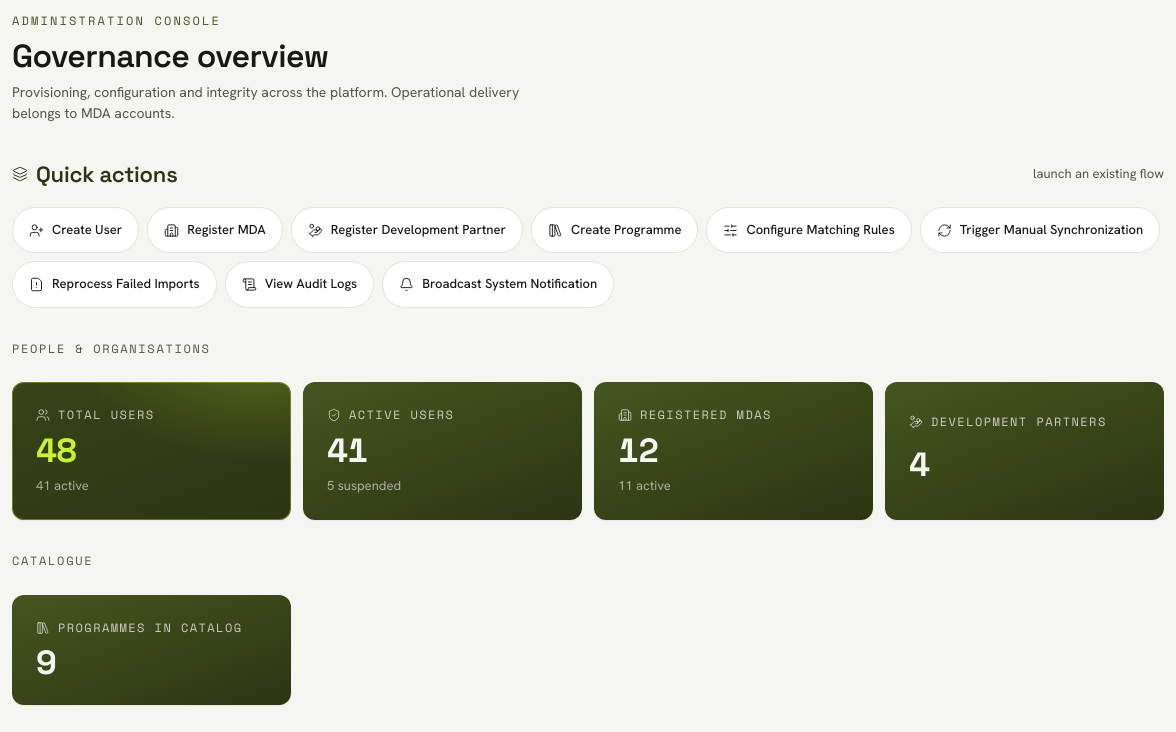
Test: System Administrator console › routes View Audit Logs to the console audit section
Expected: the heading "Governance overview" is shown, [12, 36, 328, 76]
Click the button "View Audit Logs" at [299, 284], box [225, 261, 374, 308]
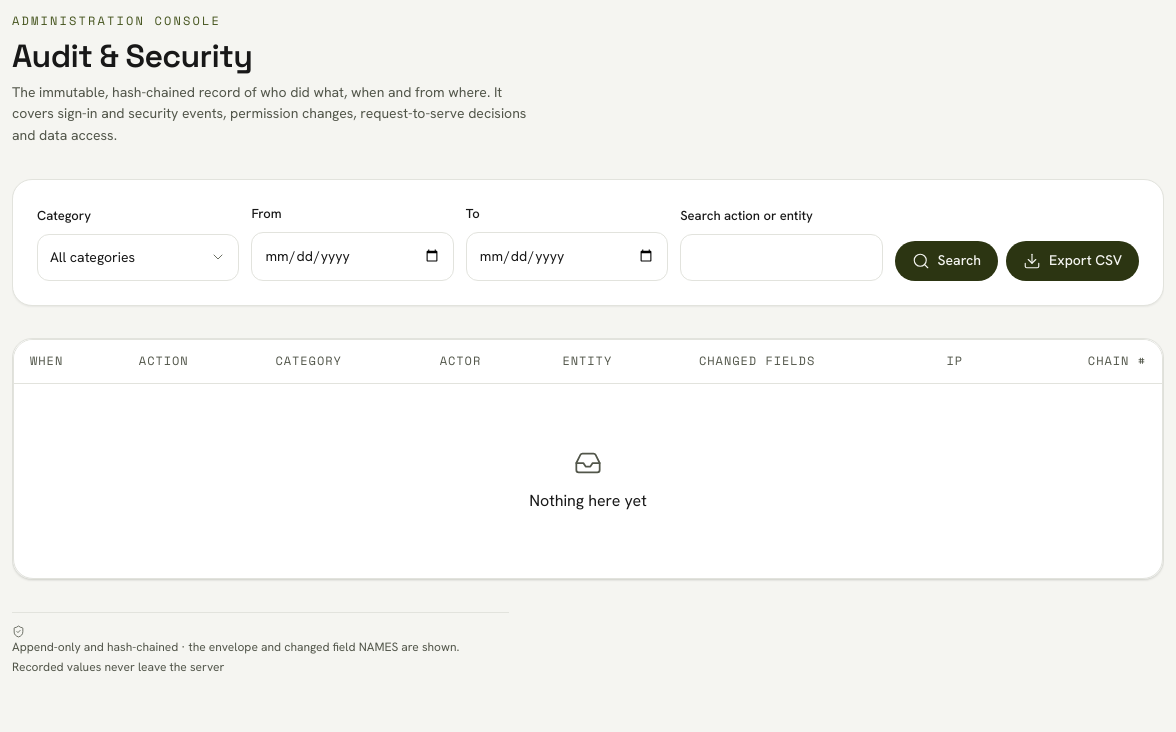
Now the heading "Audit & Security" is shown, box [12, 36, 252, 76]
